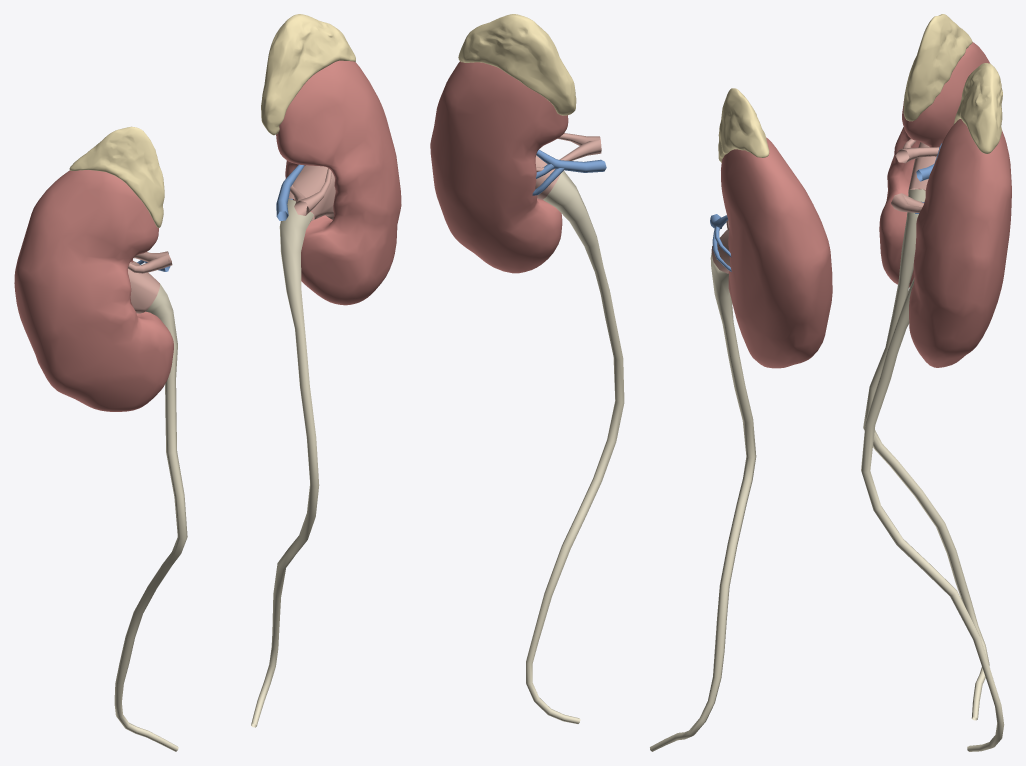
File: zanatomy-kidney.glb
3 views of the same model, side by side, from view 1: azimuth 30°, elevation 25°; view 2: azimuth 150°, elevation 25°; view 3: azimuth 270°, elevation 25° (orthographic). The views are drawn at different scales.
Parts seen in each view (by area): view 1: za_kidney_r, za_kidney_l, za_ureter_l, za_suprarenal_l, za_ureter_r, za_suprarenal_r, za_renal_pelvis_l, za_renal_pelvis_r; view 2: za_kidney_l, za_kidney_r, za_ureter_l, za_suprarenal_l, za_ureter_r, za_suprarenal_r, za_intrarenal_vein_l; view 3: za_kidney_l, za_kidney_r, za_ureter_l, za_ureter_r, za_suprarenal_r, za_suprarenal_l, za_renal_pelvis_r, za_segart_post_r, za_segart_ant_l.
Boxes of the visible parts, left/top/right/bottom form: za_kidney_r: left=14, top=170, right=173, bottom=411; za_kidney_l: left=276, top=60, right=401, bottom=305; za_ureter_l: left=251, top=199, right=319, bottom=727; za_suprarenal_l: left=261, top=14, right=355, bottom=135; za_ureter_r: left=114, top=284, right=187, bottom=751; za_suprarenal_r: left=69, top=126, right=164, bottom=227; za_renal_pelvis_l: left=288, top=165, right=335, bottom=221; za_renal_pelvis_r: left=128, top=261, right=159, bottom=313; za_kidney_l: left=430, top=61, right=568, bottom=273; za_kidney_r: left=721, top=137, right=832, bottom=368; za_ureter_l: left=526, top=171, right=624, bottom=723; za_suprarenal_l: left=458, top=14, right=576, bottom=115; za_ureter_r: left=650, top=253, right=756, bottom=751; za_suprarenal_r: left=718, top=88, right=769, bottom=162; za_intrarenal_vein_l: left=532, top=149, right=606, bottom=195; za_kidney_l: left=909, top=119, right=1011, bottom=367; za_kidney_r: left=879, top=42, right=990, bottom=287; za_ureter_l: left=861, top=278, right=1004, bottom=751; za_ureter_r: left=863, top=189, right=989, bottom=720; za_suprarenal_r: left=903, top=14, right=972, bottom=121; za_suprarenal_l: left=953, top=63, right=1002, bottom=153; za_renal_pelvis_r: left=908, top=142, right=936, bottom=194; za_segart_post_r: left=896, top=147, right=939, bottom=163; za_segart_ant_l: left=891, top=193, right=922, bottom=212.
Bounding box in the file's own units: 0.178 × 0.3128 × 0.0595.
